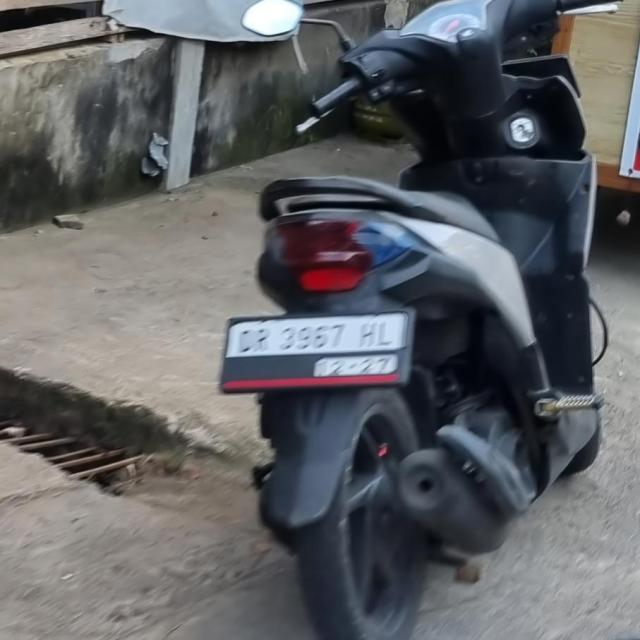plate: (223, 311, 409, 378)
